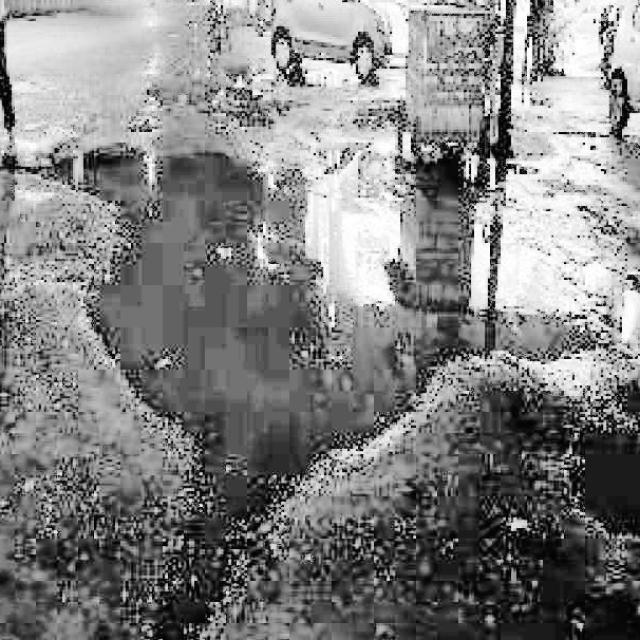Pothole: (9, 134, 600, 525), (567, 380, 640, 550), (587, 264, 640, 359)
